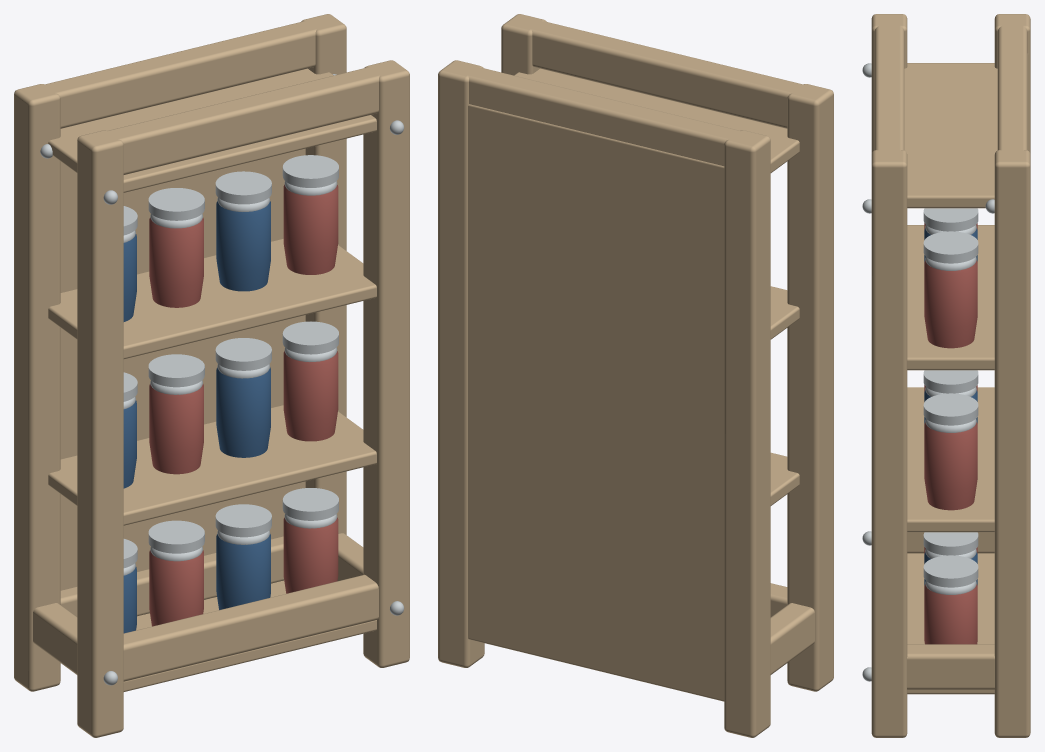
The model's file is textile-weaving-and-dye-workshop-pigment-jar-cabinet-1deebdd1__29566.glb.
3 views of the same model, side by side, from view 1: azimuth 30°, elevation 25°; view 2: azimuth 150°, elevation 25°; view 3: azimuth 270°, elevation 25° (orthographic). The views are drawn at different scales.
Parts seen in each view (by area): view 1: pigment-jar-cabinet; view 2: pigment-jar-cabinet; view 3: pigment-jar-cabinet.
Part boxes in pixels (x1=…): pigment-jar-cabinet: x1=14, y1=14, x2=409, y2=737; pigment-jar-cabinet: x1=438, y1=14, x2=833, y2=737; pigment-jar-cabinet: x1=862, y1=14, x2=1030, y2=737.
Size of the model in its own units: 0.8999 by 1.6 by 0.423.
